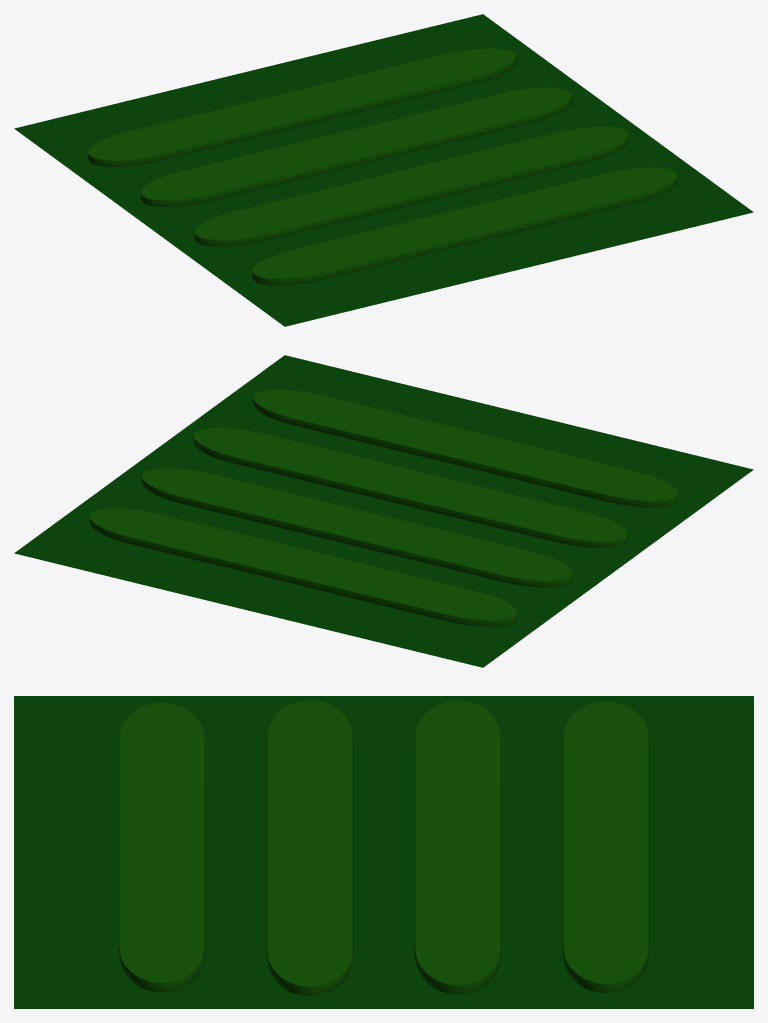
The model's file is PisoSobe.FBX.
3 renders of one model, top to bottom at view 1: azimuth 30°, elevation 25°; view 2: azimuth 150°, elevation 25°; view 3: azimuth 270°, elevation 25°, orthographic. The views are drawn at different scales.
Visible parts, largest first — view 1: Plane001, Capsule003, Capsule002, Capsule001, Capsule004; view 2: Plane001, Capsule003, Capsule002, Capsule001, Capsule004; view 3: Plane001, Capsule003, Capsule002, Capsule001, Capsule004.
Boxes of the visible parts, <box> form: Plane001: <box>14,14,753,326</box>; Capsule003: <box>193,126,629,246</box>; Capsule002: <box>140,87,572,206</box>; Capsule001: <box>87,48,516,166</box>; Capsule004: <box>251,167,677,285</box>; Plane001: <box>14,355,753,667</box>; Capsule003: <box>192,428,628,547</box>; Capsule002: <box>141,468,573,587</box>; Capsule001: <box>88,508,517,626</box>; Capsule004: <box>252,389,678,507</box>; Plane001: <box>14,696,753,1008</box>; Capsule003: <box>266,700,353,995</box>; Capsule002: <box>414,700,501,994</box>; Capsule001: <box>562,701,649,992</box>; Capsule004: <box>118,702,205,992</box>.
Bounding box in the file's own units: 2000 × 27.98 × 2000.
